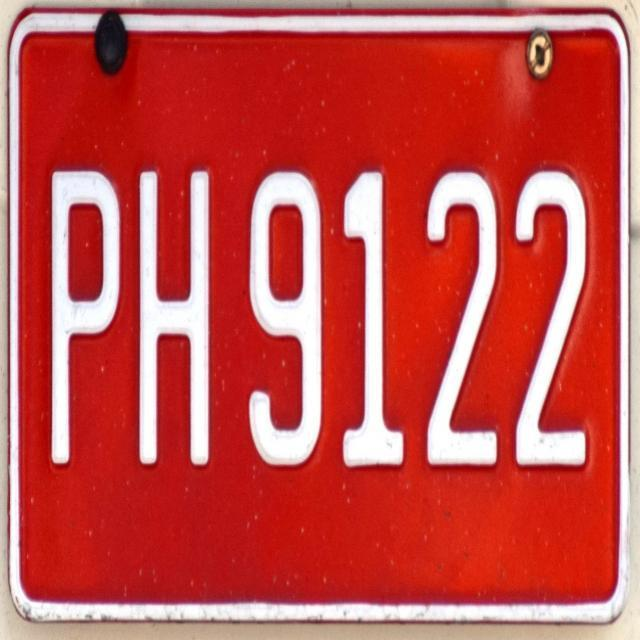licenseplate: (9, 3, 628, 620)
